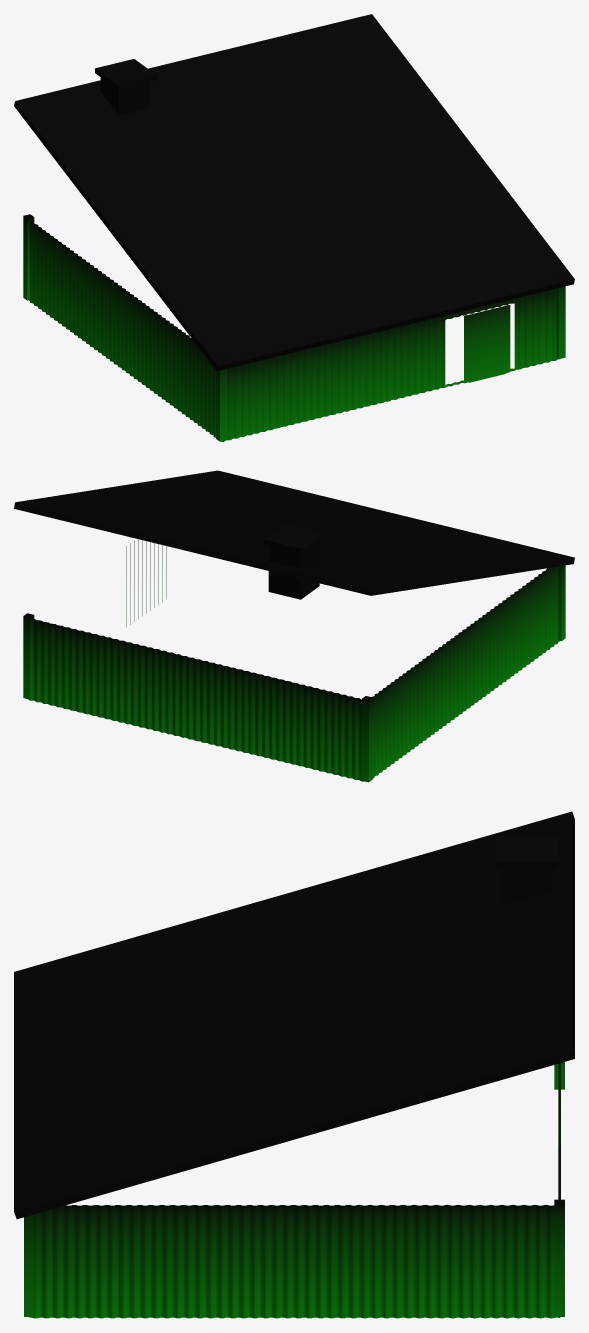
File: tinshack.glb
3 renders of one model, top to bottom at view 1: azimuth 30°, elevation 25°; view 2: azimuth 150°, elevation 25°; view 3: azimuth 270°, elevation 25°, orthographic. The views are drawn at different scales.
Visible parts, largest first — view 1: lod0; view 2: lod0; view 3: lod0.
Part boxes in pixels (x1=…): lod0: x1=14, y1=14, x2=574, y2=441; lod0: x1=14, y1=470, x2=574, y2=782; lod0: x1=14, y1=811, x2=574, y2=1318.
Size of what is drawn, in the model's own units: 15.5 by 9 by 15.34.
